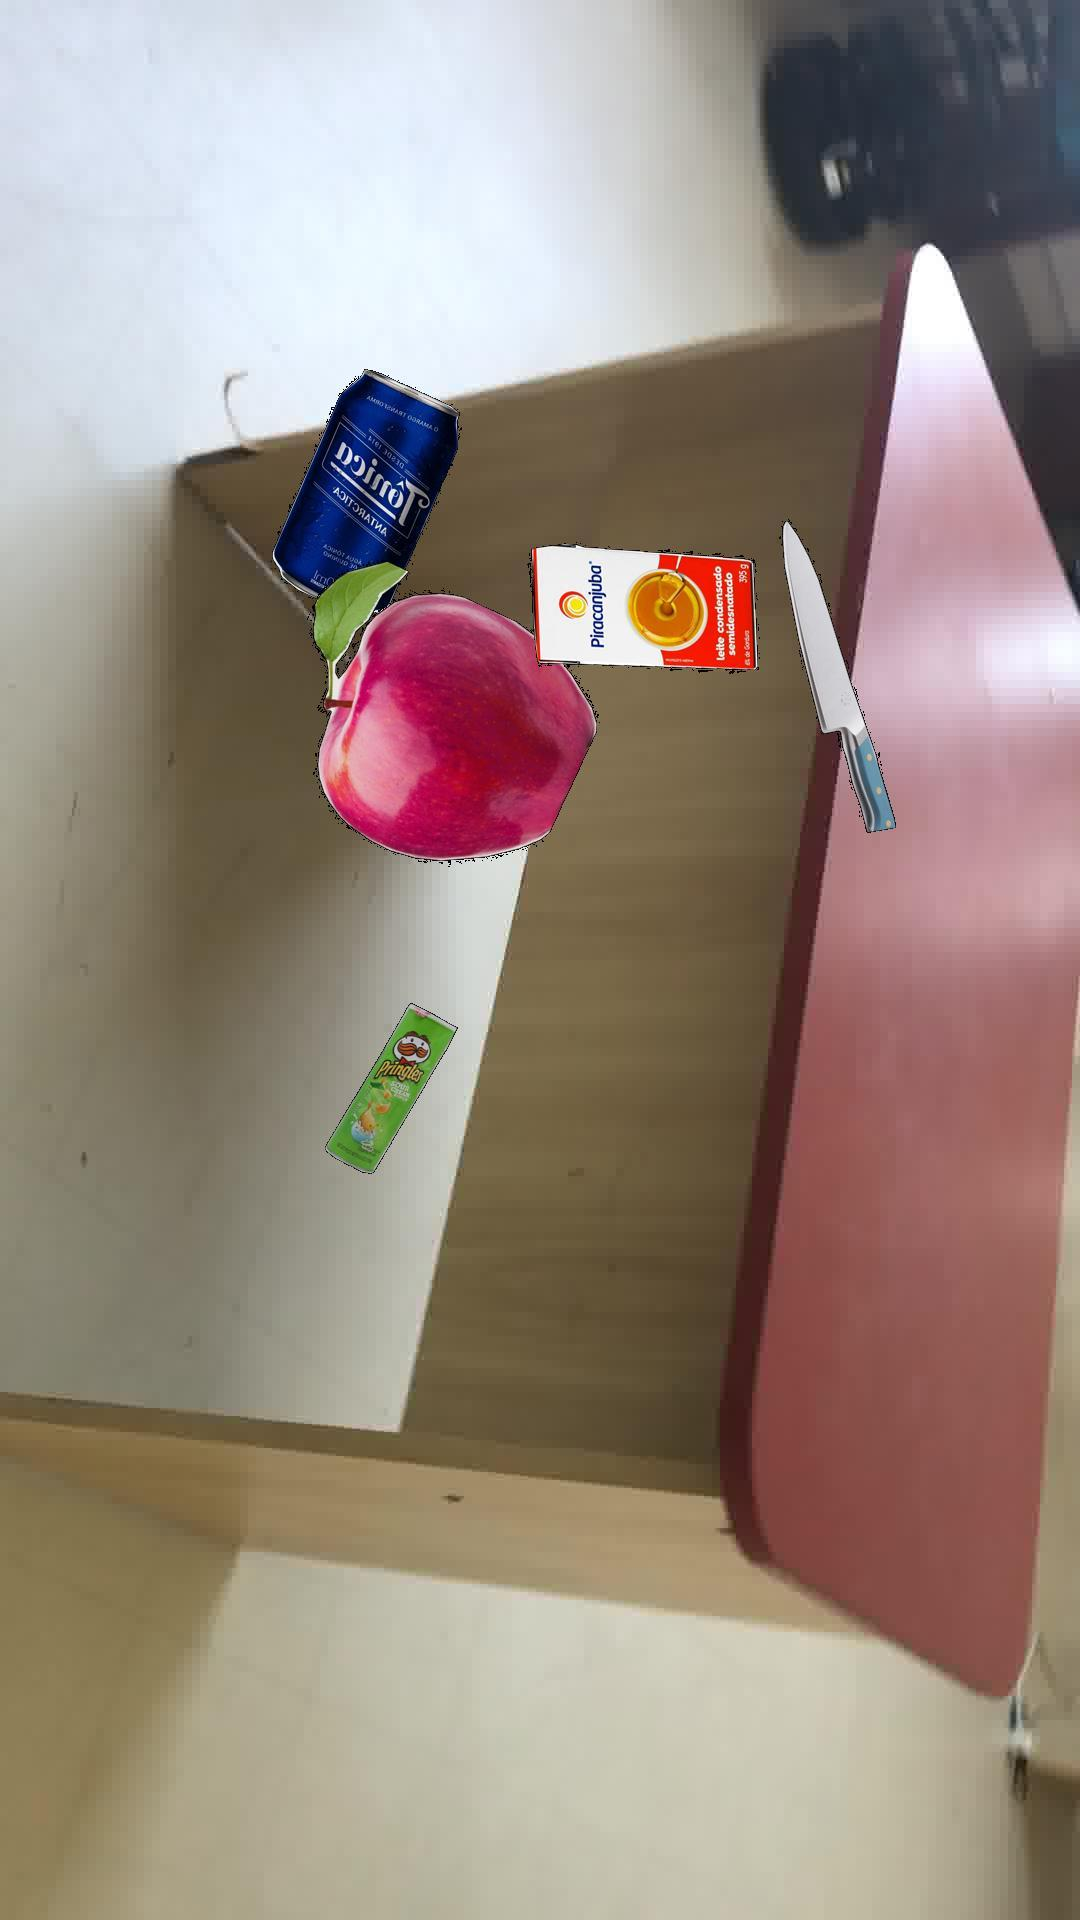apple: (309, 559, 596, 864)
knife: (779, 518, 894, 832)
pringles: (323, 1001, 456, 1172)
tonic: (270, 368, 459, 612)
